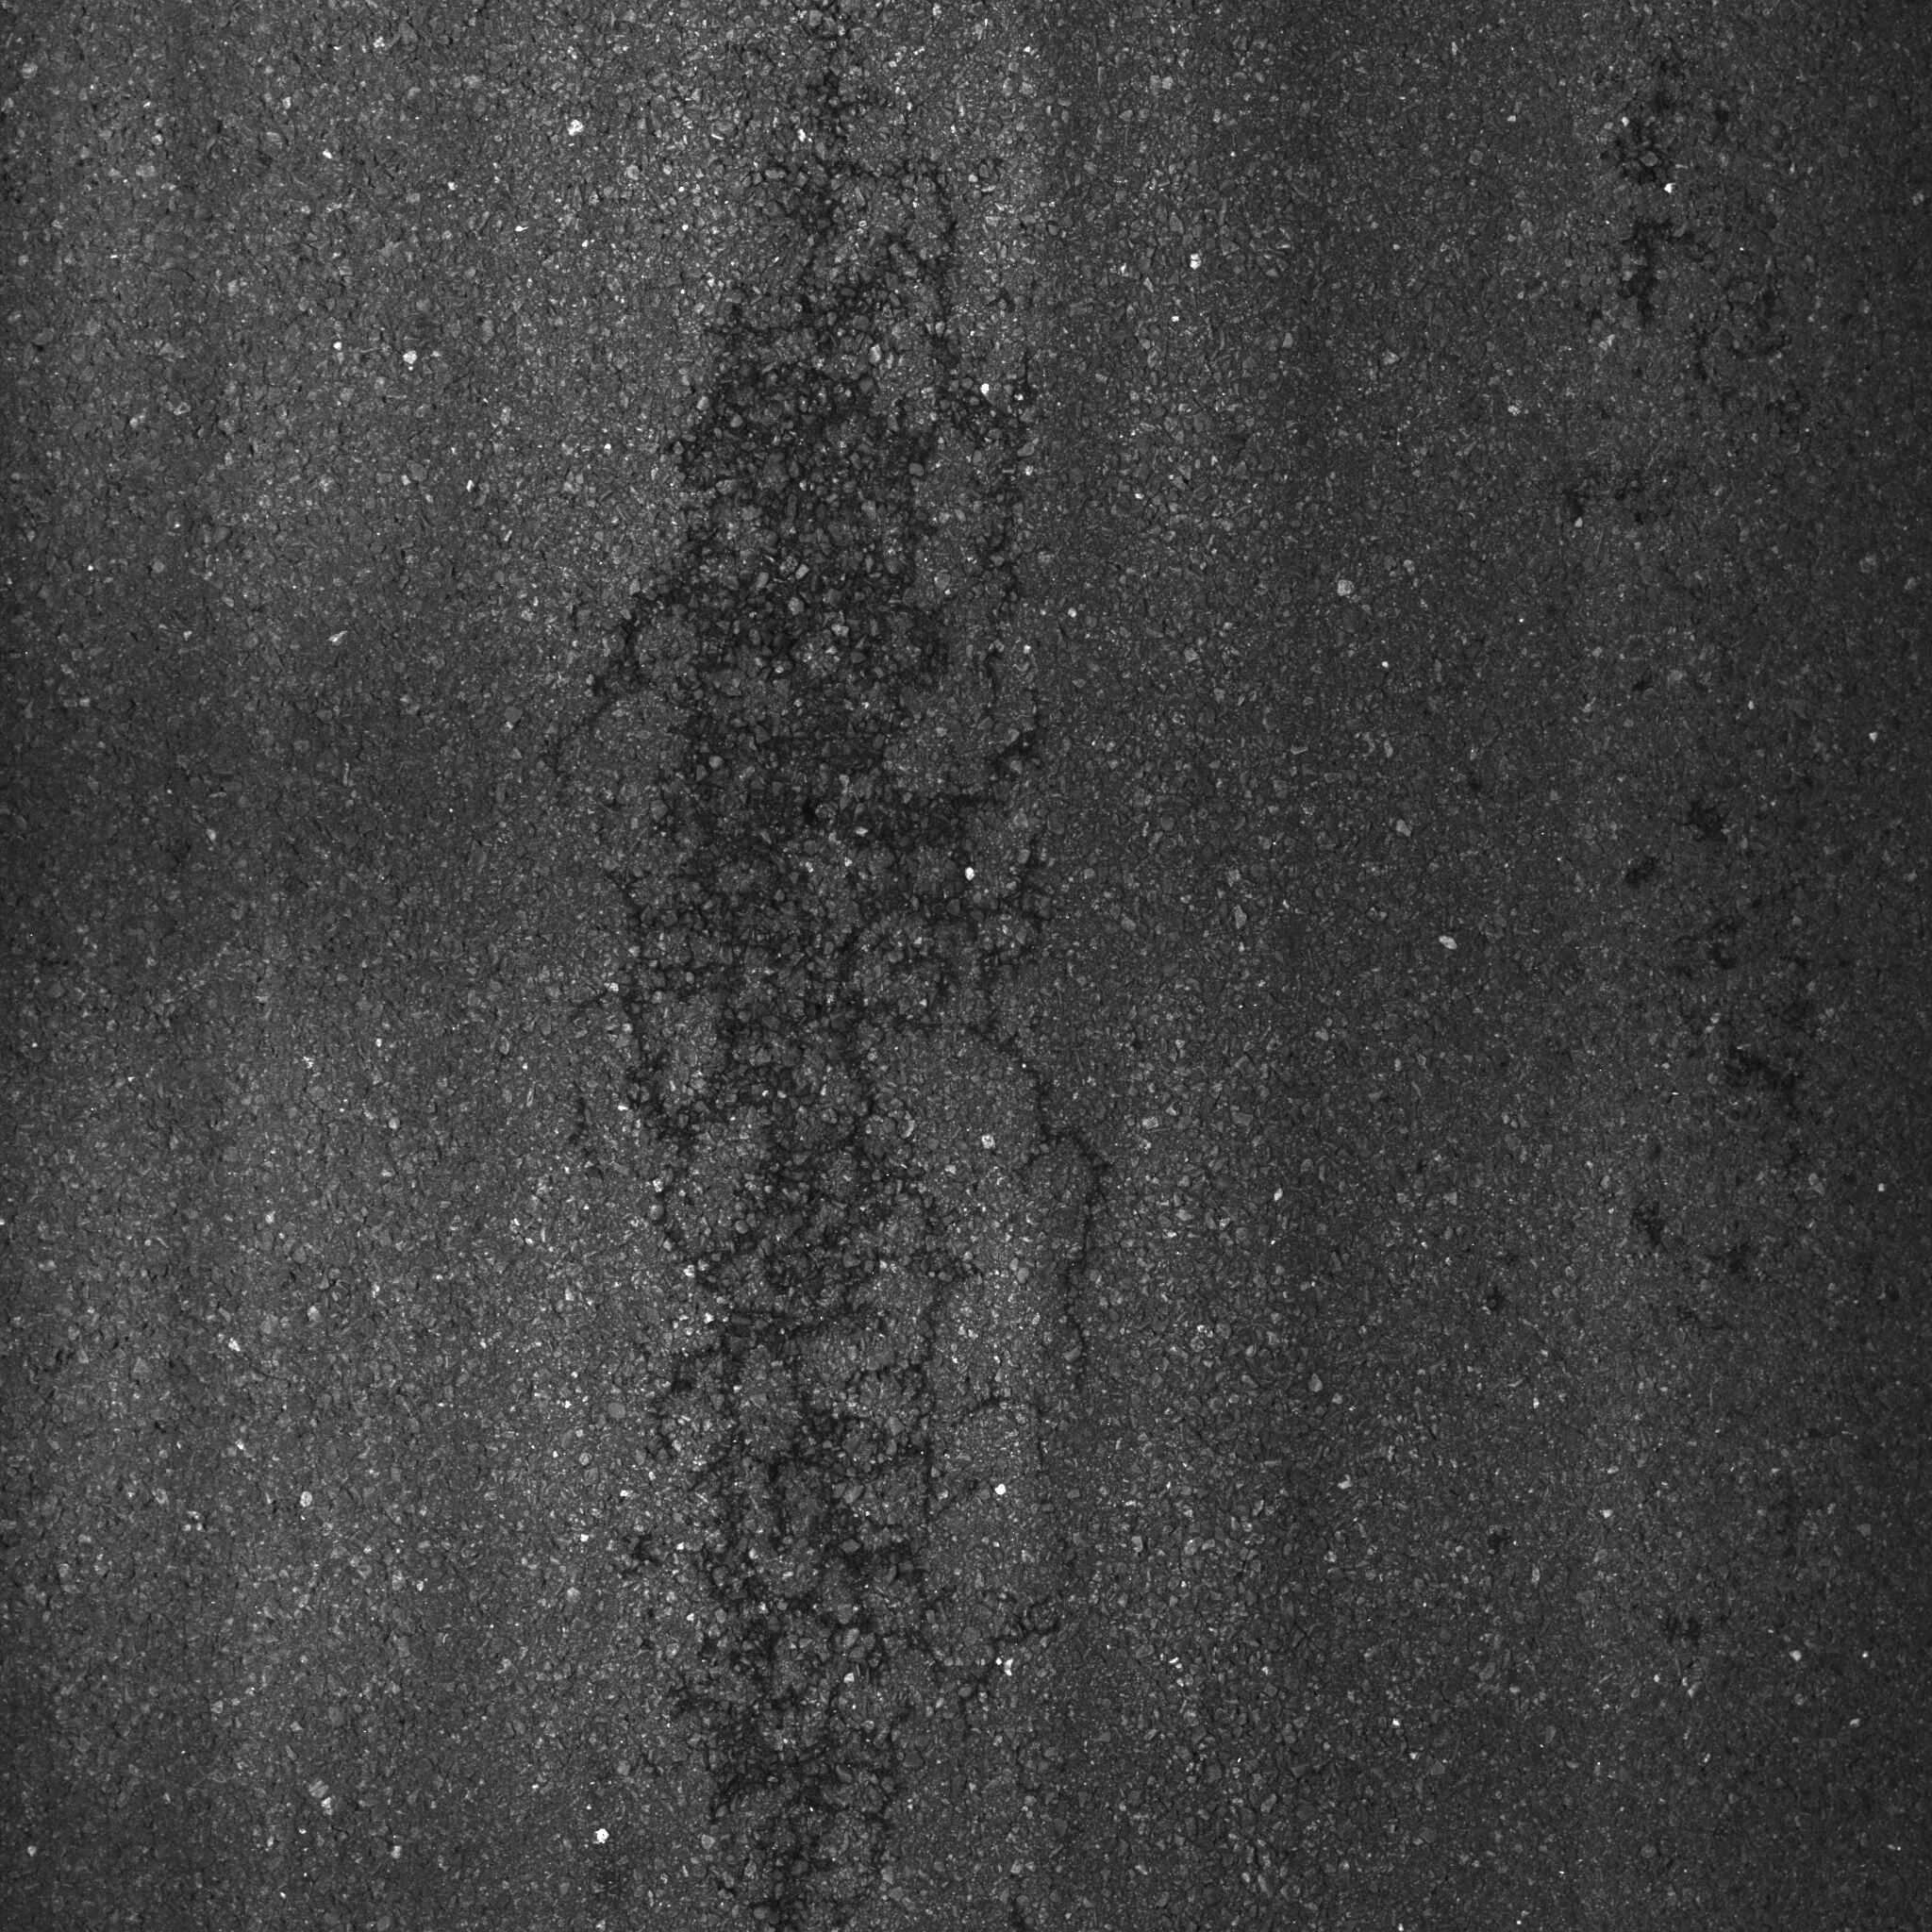alligator: (499, 25, 1139, 1932)
